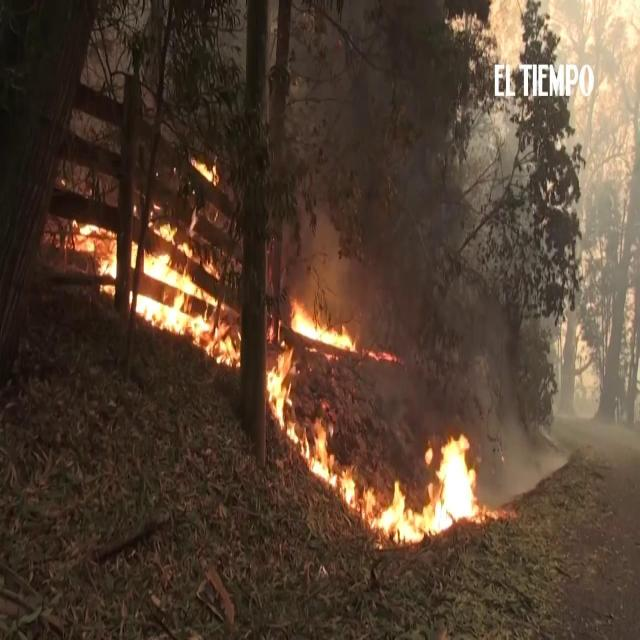Fire: (311, 423, 481, 549), (130, 216, 238, 364), (71, 220, 117, 296), (290, 300, 356, 352), (266, 348, 300, 446), (188, 150, 218, 184), (366, 346, 406, 368)
